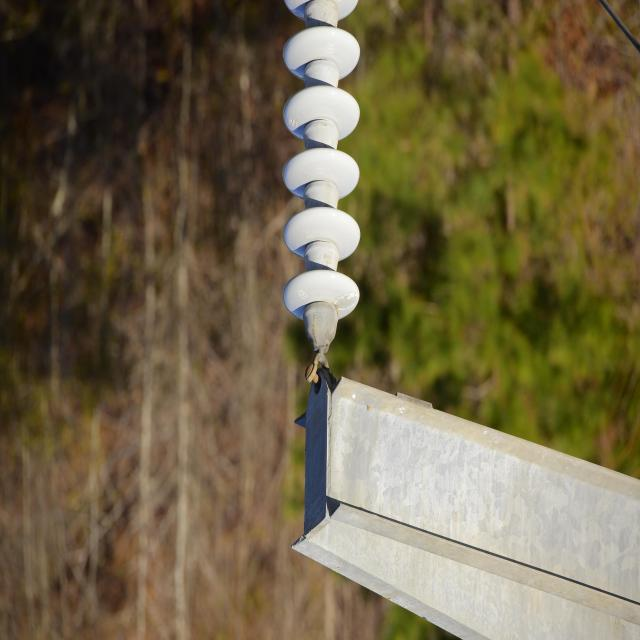insulator: (281, 0, 361, 319)
